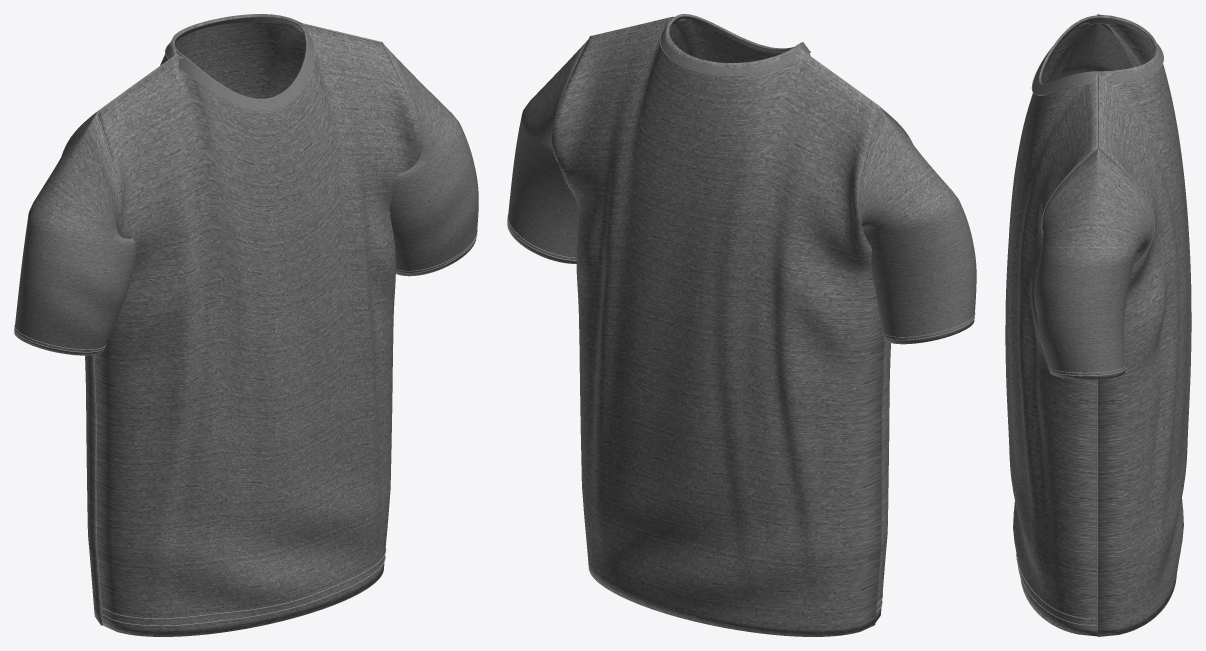
The model's file is sobral-3300.glb.
The picture shows the model from 3 angles, left to right: view 1: azimuth 30°, elevation 25°; view 2: azimuth 150°, elevation 25°; view 3: azimuth 270°, elevation 25°; orthographic projection. The views are drawn at different scales.
Visible parts, largest first — view 1: 3300__front_body_0, 3300__right_sleeve, 3300__left_sleeve, 3300__back_body_0, 3300__neck_rib, 3300__seams_and_small_details; view 2: 3300__back_body_0, 3300__right_sleeve, 3300__left_sleeve, 3300__front_body_0, 3300__neck_rib, 3300__seams_and_small_details; view 3: 3300__back_body_0, 3300__front_body_0, 3300__left_sleeve, 3300__right_sleeve, 3300__neck_rib, 3300__seams_and_small_details.
Boxes of the visible parts, x1,y1,x2,y2 form: 3300__front_body_0: (94, 25, 420, 636); 3300__right_sleeve: (14, 114, 135, 355); 3300__left_sleeve: (385, 46, 478, 276); 3300__back_body_0: (63, 14, 382, 625); 3300__neck_rib: (165, 15, 314, 111); 3300__seams_and_small_details: (14, 24, 477, 615); 3300__back_body_0: (551, 17, 884, 636); 3300__right_sleeve: (858, 108, 976, 344); 3300__left_sleeve: (507, 40, 587, 263); 3300__front_body_0: (669, 14, 890, 622); 3300__neck_rib: (660, 14, 810, 75); 3300__seams_and_small_details: (507, 16, 975, 340); 3300__back_body_0: (1098, 14, 1191, 636); 3300__front_body_0: (1005, 15, 1097, 636); 3300__left_sleeve: (1034, 149, 1153, 379); 3300__right_sleeve: (1059, 24, 1132, 79); 3300__neck_rib: (1032, 15, 1163, 95); 3300__seams_and_small_details: (1031, 14, 1163, 626).
Bounding box in the file's own units: 0.6315 × 0.7364 × 0.2348.
3 materials, 2 textured.
